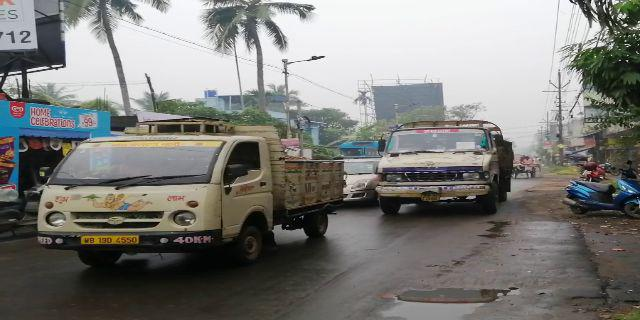Minitruck: (42, 135, 346, 262)
Truck: (382, 121, 510, 212)
